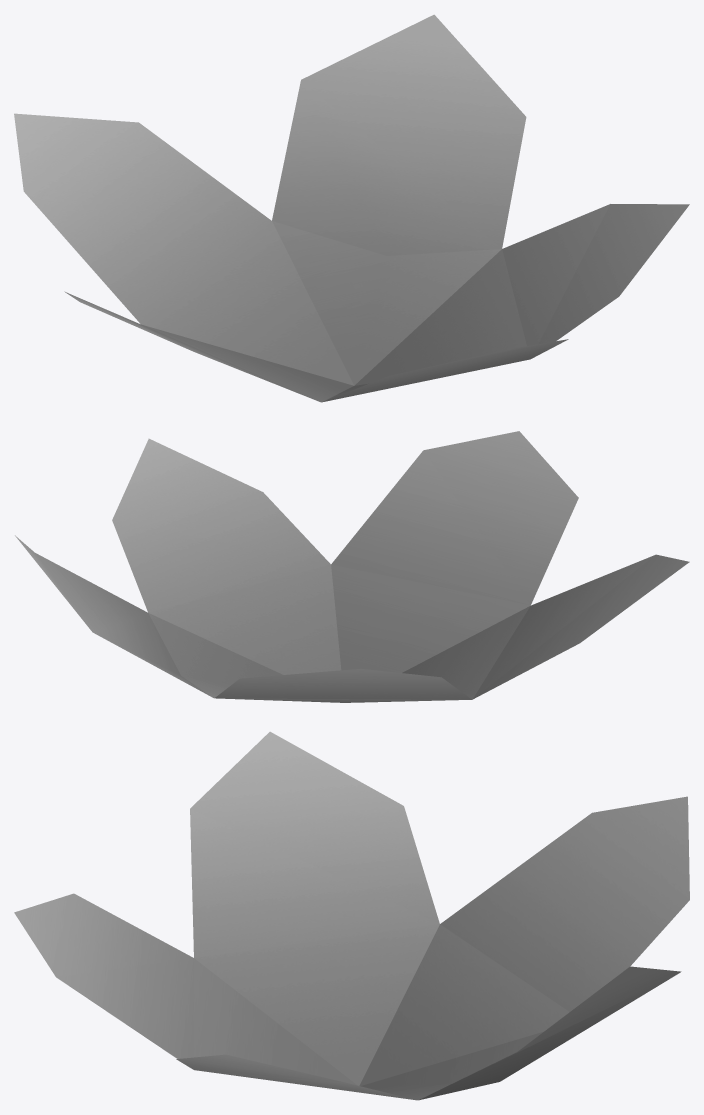
File: flower.fbx
3 renders of one model, top to bottom at view 1: azimuth 30°, elevation 25°; view 2: azimuth 150°, elevation 25°; view 3: azimuth 270°, elevation 25°, orthographic. The views are drawn at different scales.
Parts seen in each view (by area): view 1: flower; view 2: flower; view 3: flower.
Part boxes in pixels (box(x1,y1,x2,y2)): flower: box(14, 14, 689, 402); flower: box(15, 431, 689, 702); flower: box(14, 731, 689, 1100).
Size of the model in its own units: 0.0364 by 0.0131 by 0.0356.
1 material, 1 textured.
